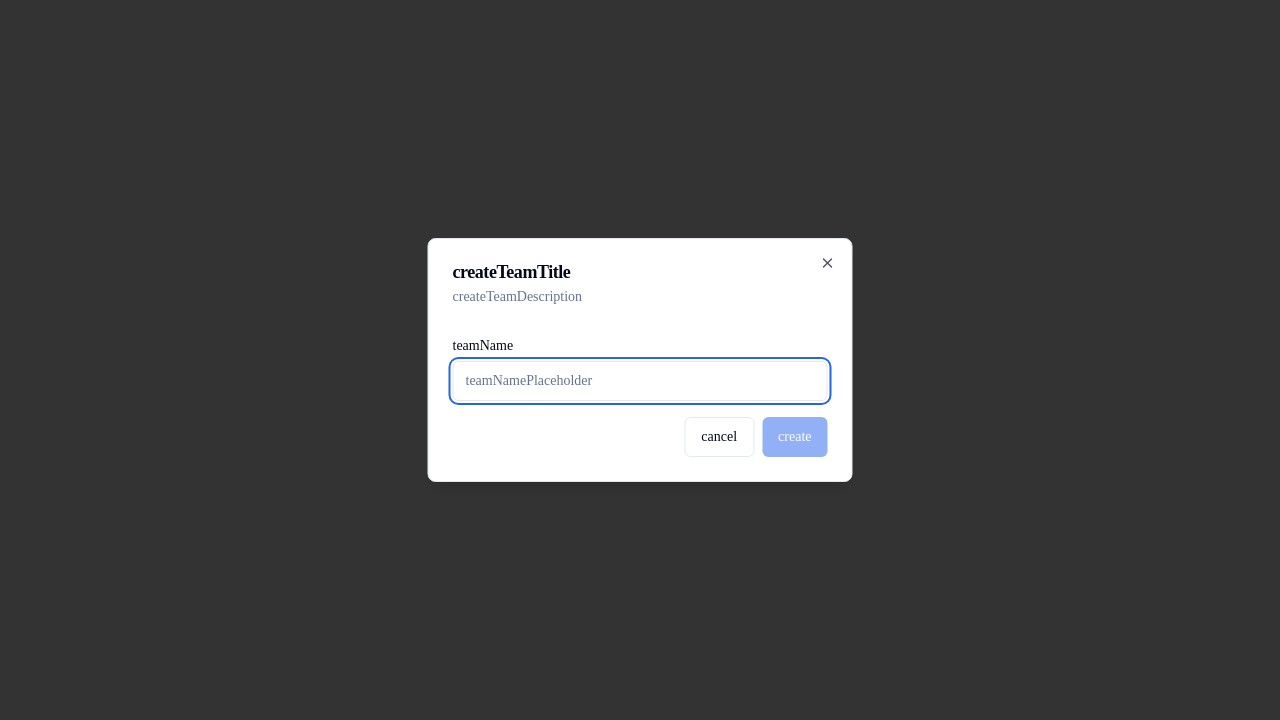
Test: CreateTeamDialog › Loading State › should not allow closing dialog while loading
Step 1. Type "My Team" into the field labelled "teamName" → (640, 381), box [452, 361, 828, 401]
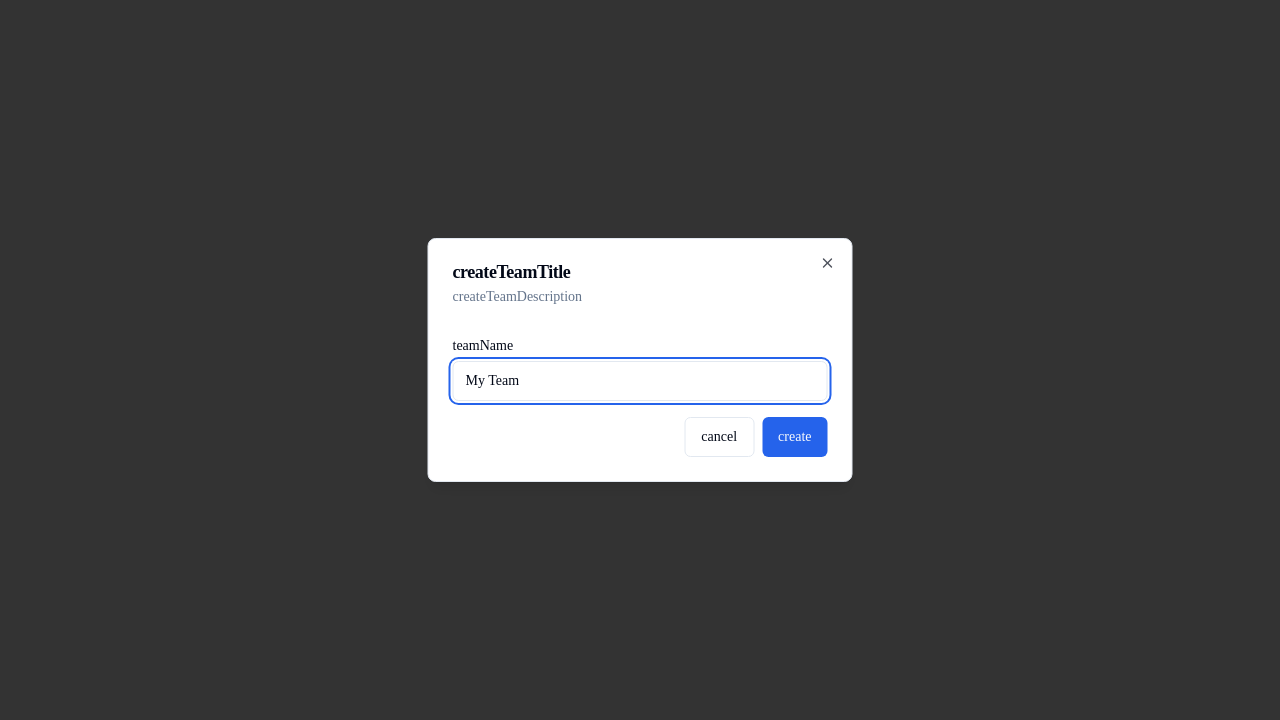
Step 2. Click the button "create" → (795, 437), box [762, 417, 828, 457]
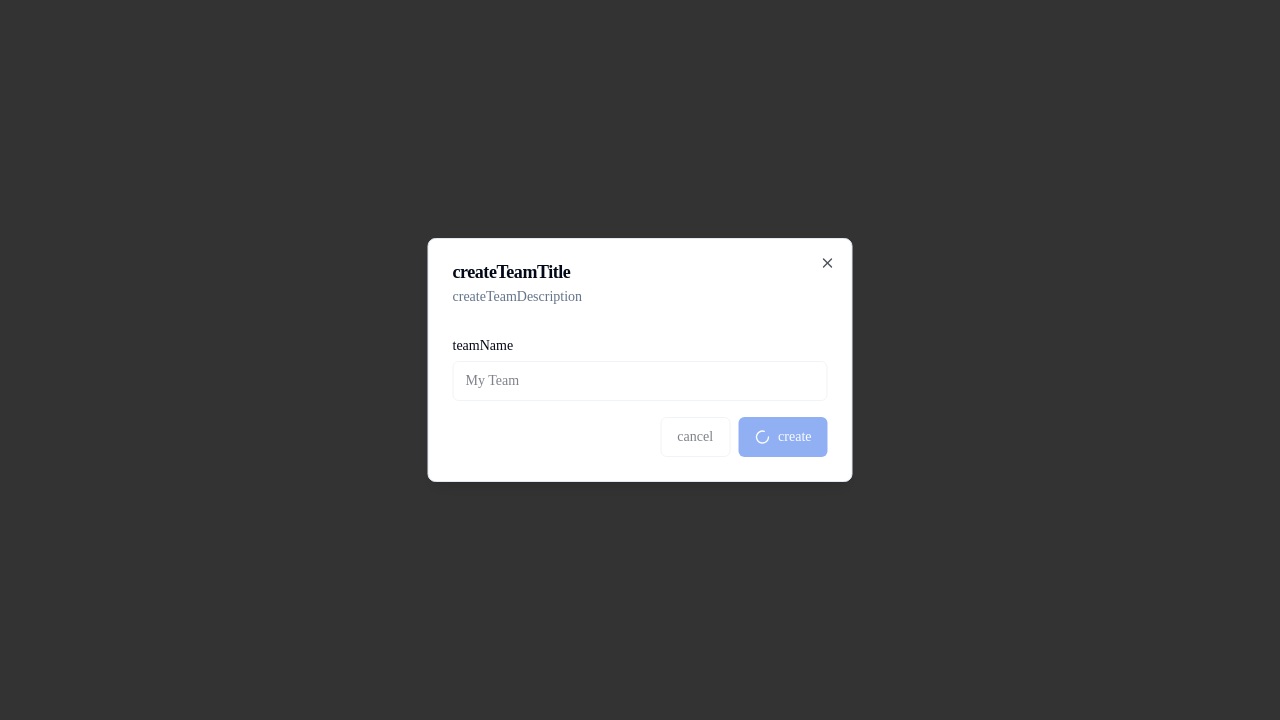
Try to cancel while loading
Step 3. Click the button "cancel" → (695, 437), box [660, 417, 730, 457]
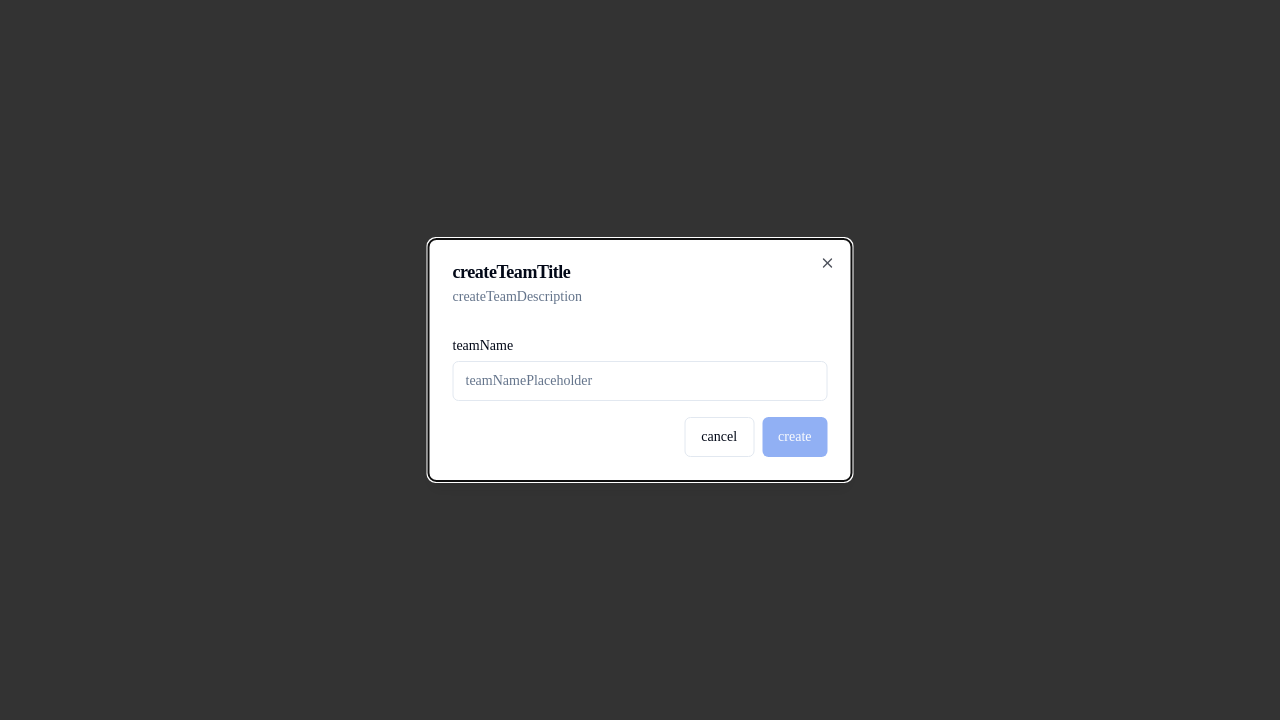
Check: the field labelled "teamName" is enabled, box [452, 361, 828, 401]
